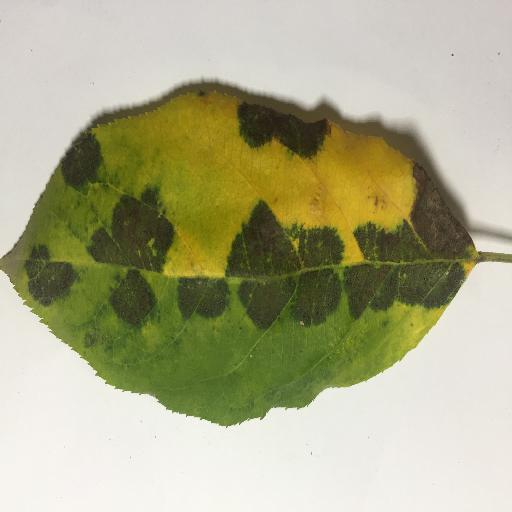Brown_Spot: (406, 169, 471, 268), (239, 105, 333, 156), (248, 207, 289, 271), (376, 228, 396, 251)
